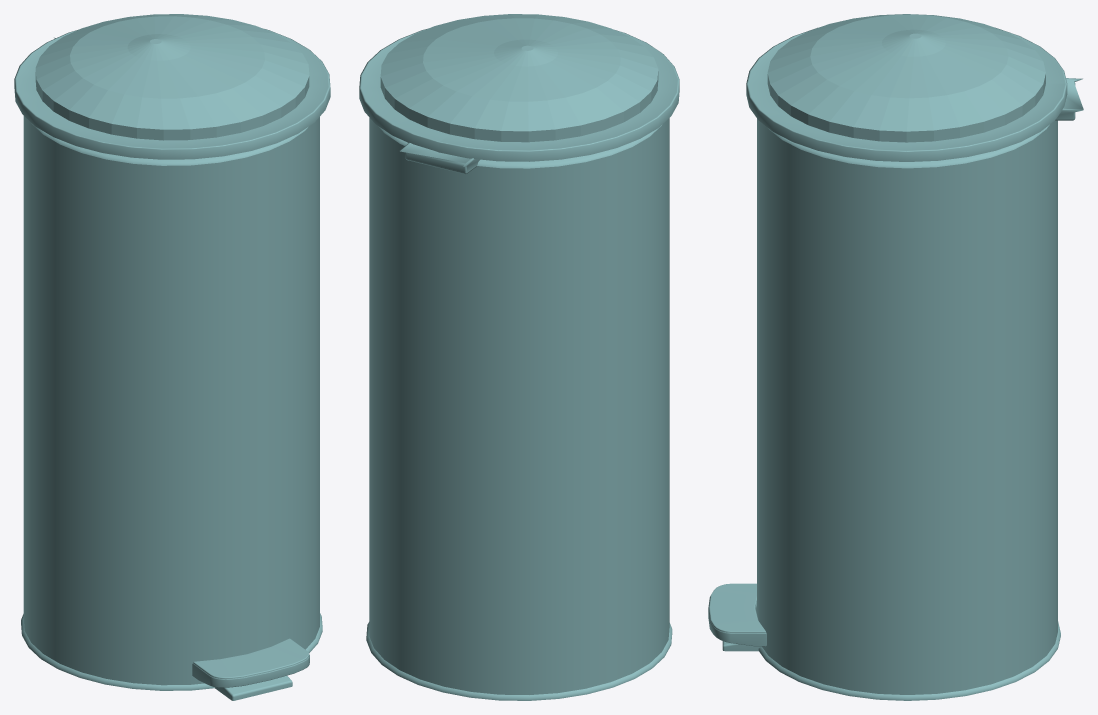
The model's file is çöp kovası.fbx.
3 renders of one model, left to right at view 1: azimuth 30°, elevation 25°; view 2: azimuth 150°, elevation 25°; view 3: azimuth 270°, elevation 25°, orthographic.
Visible parts, largest first — view 1: TrashCan; view 2: TrashCan; view 3: TrashCan.
Part boxes in pixels (x1,y1,x2,y2): TrashCan: [14, 14, 330, 700]; TrashCan: [359, 14, 679, 700]; TrashCan: [708, 14, 1083, 700].
Size of the model in its own units: 40.76 by 83.18 by 47.66.
